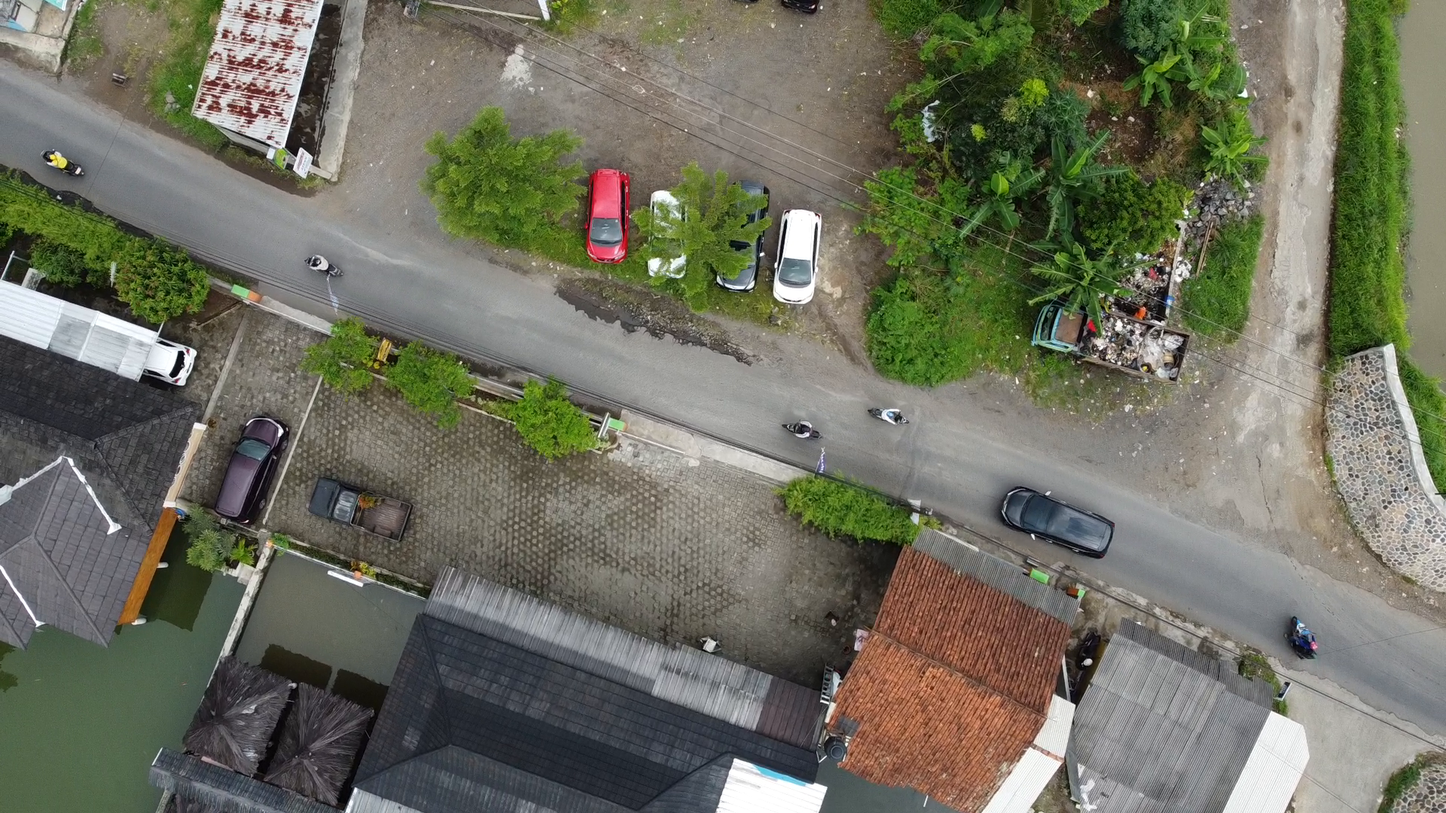mobil: (996, 472, 1122, 564), (206, 413, 294, 527), (297, 480, 420, 540), (713, 166, 767, 297), (778, 193, 833, 314), (642, 174, 693, 296), (583, 157, 634, 269), (132, 327, 205, 390)
